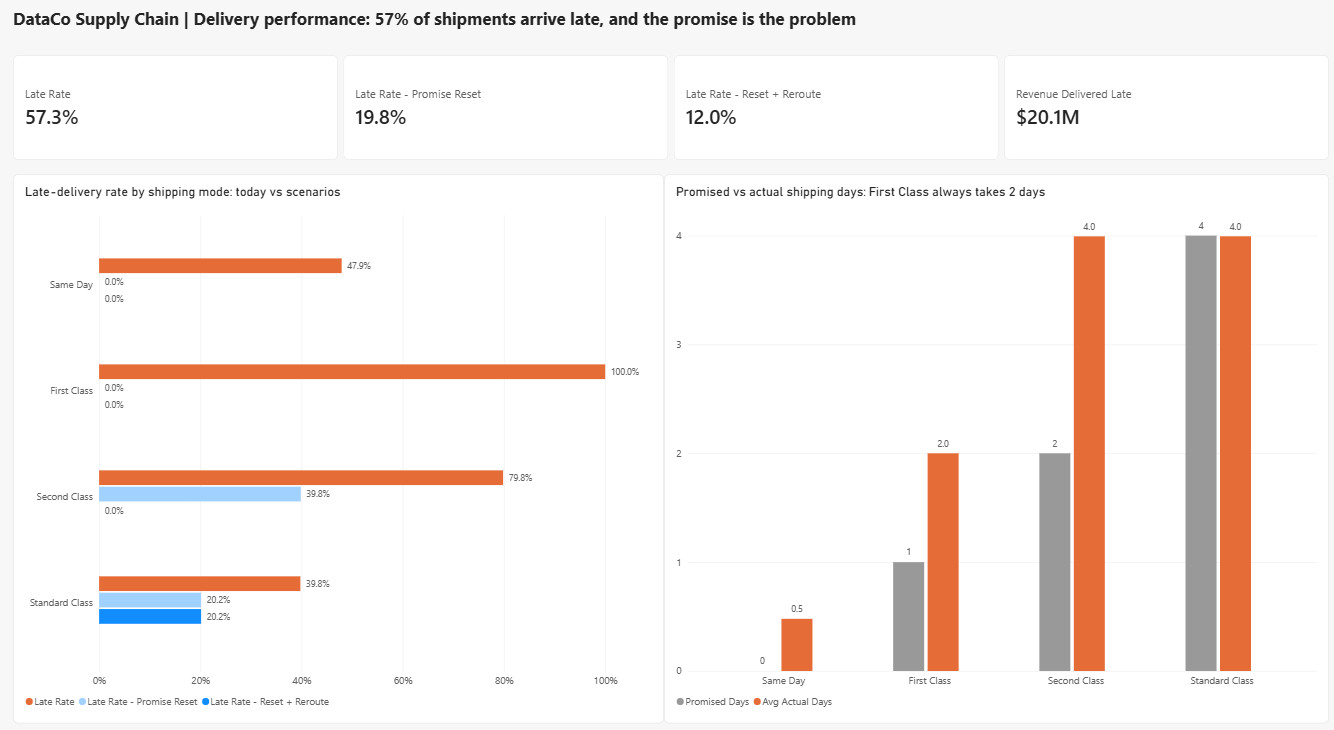

What the dashboard file says about the page in this screenshot:
{"tool":"powerbi","page":{"name":"Delivery Performance","canvas":[1920,1080],"ordinal":1},"visuals":[{"type":"cardVisual","fields":{"Data":["DeliveryMonthly.Late Rate","DeliveryMonthly.Late Rate - Promise Reset","DeliveryMonthly.Late Rate - Reset + Reroute","DeliveryMonthly.Revenue Delivered Late"]},"box":[20,80,1880,150],"z":0},{"type":"clusteredBarChart","title":"Late-delivery rate by shipping mode: today vs scenarios","fields":{"Category":["DeliveryMonthly.shipping_mode"],"Y":["DeliveryMonthly.Late Rate","DeliveryMonthly.Late Rate - Promise Reset","DeliveryMonthly.Late Rate - Reset + Reroute"]},"box":[20,250,930,785],"z":1},{"type":"clusteredColumnChart","title":"Promised vs actual shipping days: First Class always takes 2 days","fields":{"Category":["DeliveryMonthly.shipping_mode"],"Y":["DeliveryMonthly.Promised Days","DeliveryMonthly.Avg Actual Days"]},"box":[950,250,950,785],"z":2},{"type":"textbox","box":[20,12,1880,60],"z":3}]}

Visuals, with their boxes in screenshot pixels (x1, y1, x2, y2), scaled from the page's 1920x1080 canvas onto the 1334x730 screenshot:
cardVisual - DeliveryMonthly.Late Rate x DeliveryMonthly.Late Rate - Promise Reset: box(14, 54, 1320, 155)
"Late-delivery rate by shipping mode: today vs scenarios" clusteredBarChart: box(14, 169, 660, 700)
"Promised vs actual shipping days: First Class always takes 2 days" clusteredColumnChart: box(660, 169, 1320, 700)
textbox: box(14, 8, 1320, 49)
